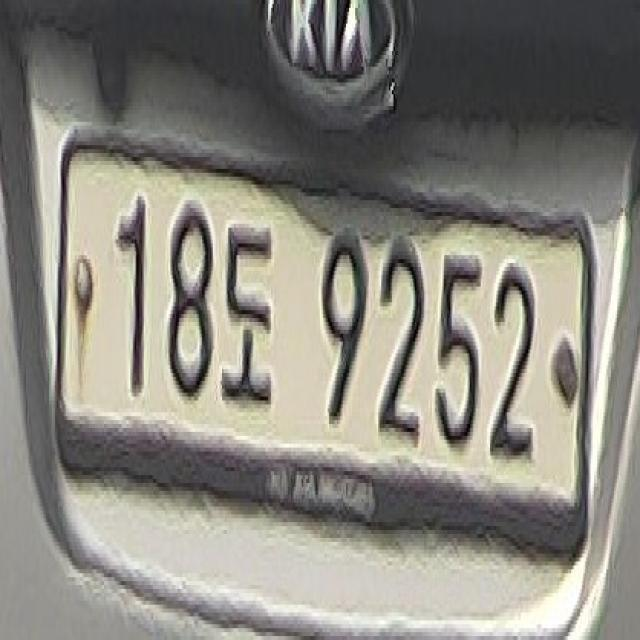1: (110, 184, 155, 404)
2: (485, 239, 542, 483), (374, 220, 427, 455)
5: (429, 216, 487, 451)
8: (164, 184, 217, 404)
9: (314, 208, 367, 428)
do: (219, 204, 279, 416)
license_plate: (46, 126, 596, 573)
